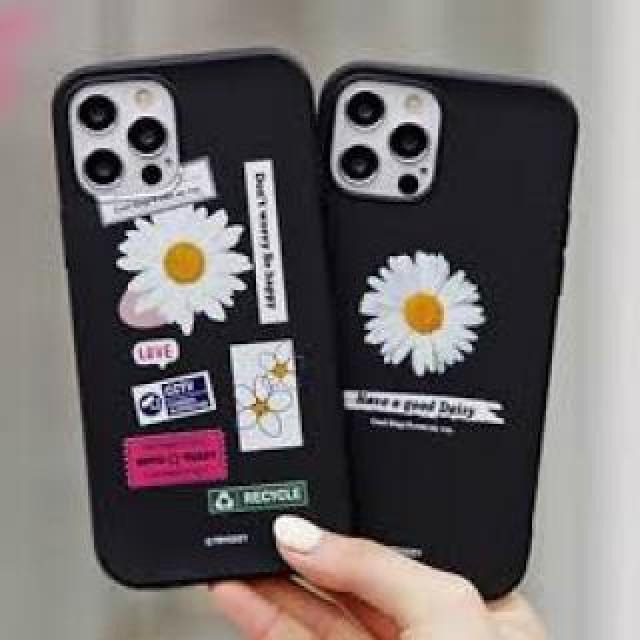smart phone: (38, 26, 352, 592), (334, 57, 558, 618)
